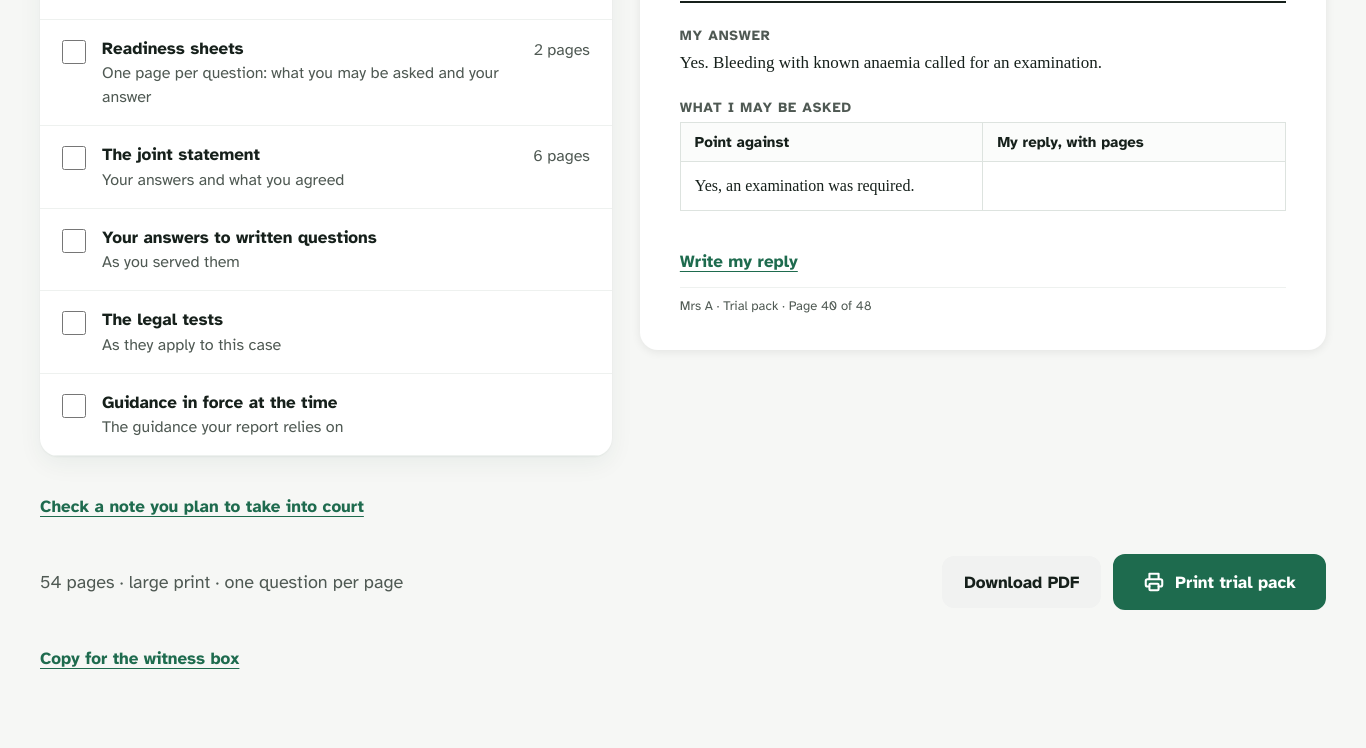
Test case: downloading the pack asks for the code when it is needed
This screenshot has width=1366, height=748.
(page scrolled)
Click the button "Download PDF": (1022, 582) [942,556,1101,608]
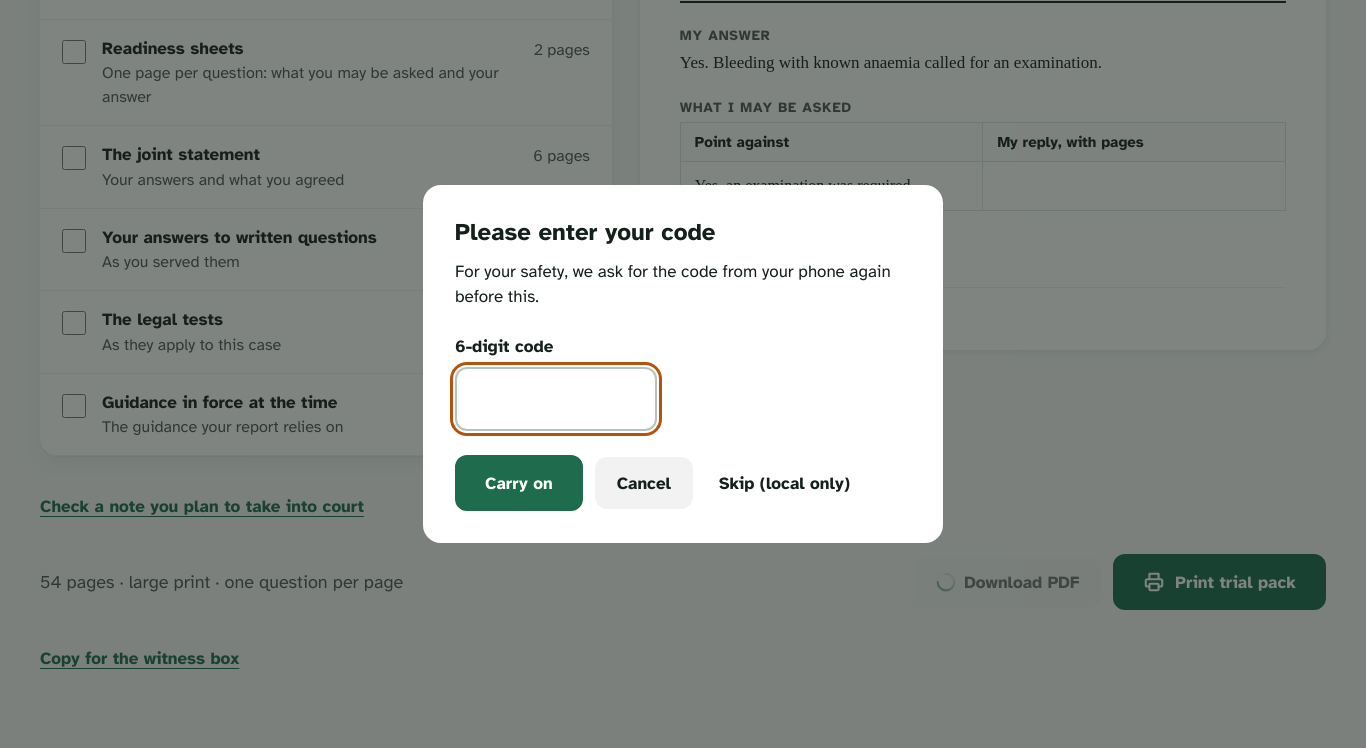
Result: the dialog is shown at [423,185,943,543]
